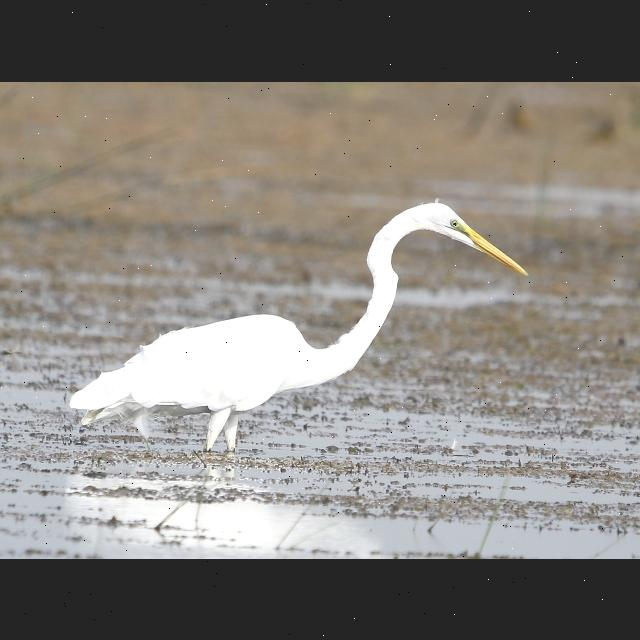egret: (69, 197, 531, 459)
